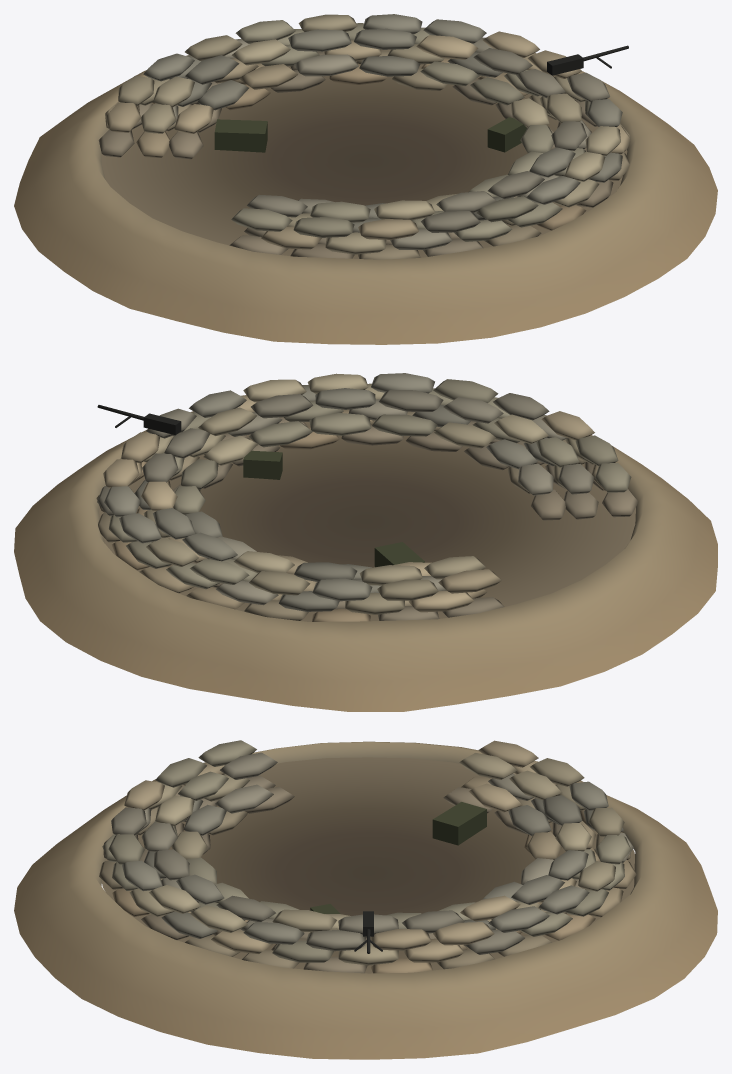
File: b10_sandbag_post.glb
3 views of the same model, one above another, from view 1: azimuth 30°, elevation 25°; view 2: azimuth 150°, elevation 25°; view 3: azimuth 270°, elevation 25° (orthographic).
Visible parts, largest first — view 1: b10_sandbag_post; view 2: b10_sandbag_post; view 3: b10_sandbag_post.
Part boxes in pixels (left/top/right/bottom): b10_sandbag_post: left=14, top=14, right=717, bottom=344; b10_sandbag_post: left=14, top=373, right=717, bottom=711; b10_sandbag_post: left=14, top=740, right=717, bottom=1059.
Size of the model in its own units: 0.9977 by 0.1409 by 1.
